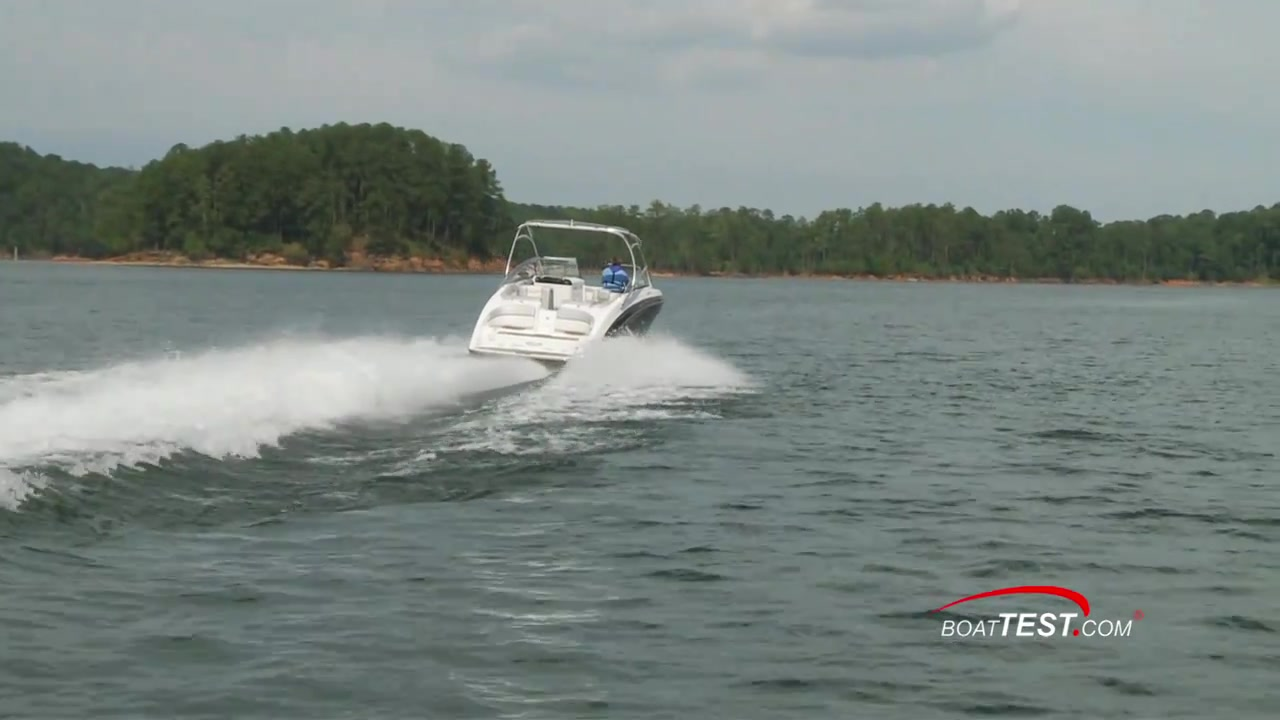boat: (464, 210, 672, 369)
